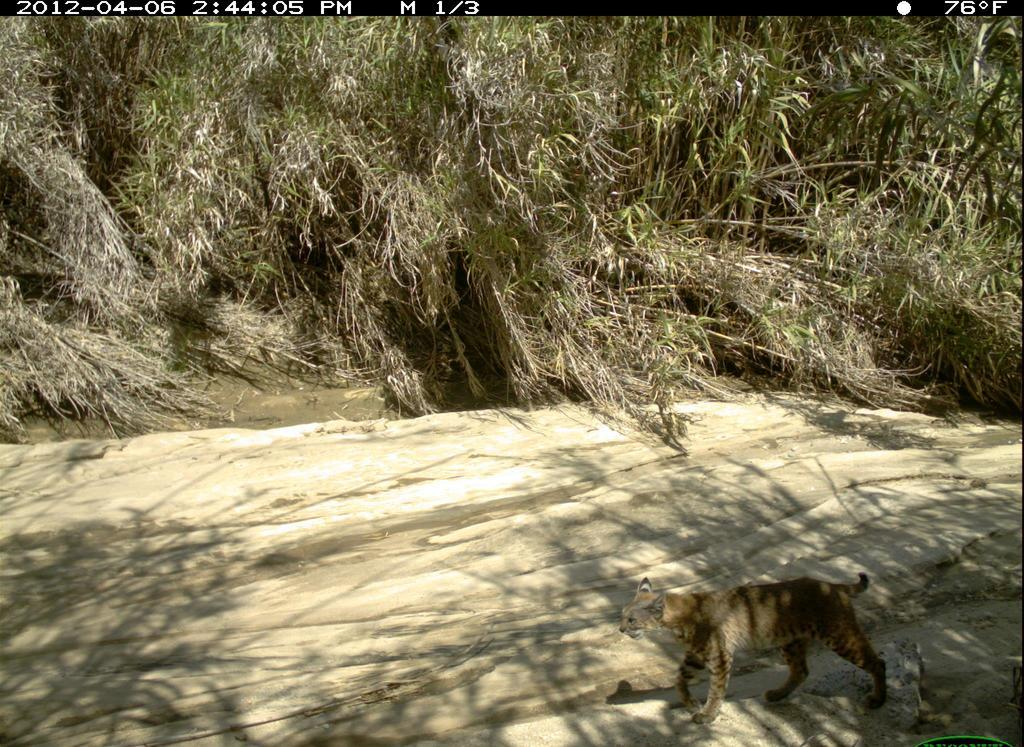bobcat: (616, 569, 894, 728)
